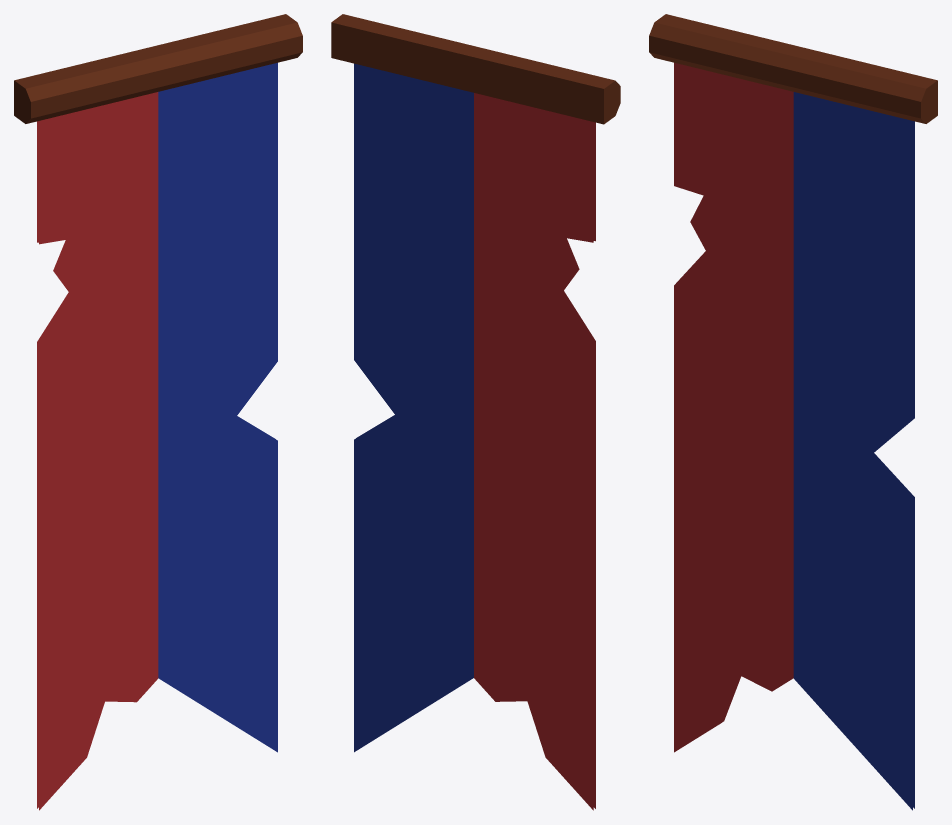
Rendered from Flag 01 Red Blue.FBX.
3 views of the same model, side by side, from view 1: azimuth 30°, elevation 25°; view 2: azimuth 150°, elevation 25°; view 3: azimuth 330°, elevation 25° (orthographic).
Parts seen in each view (by area): view 1: Flag 01 Red Blue; view 2: Flag 01 Red Blue; view 3: Flag 01 Red Blue.
Part boxes in pixels (x1=…): Flag 01 Red Blue: x1=14, y1=14, x2=302, y2=810; Flag 01 Red Blue: x1=331, y1=14, x2=620, y2=810; Flag 01 Red Blue: x1=649, y1=14, x2=937, y2=810.
Size of the model in its own units: 108 by 277 by 11.5.
1 material, 1 textured.
